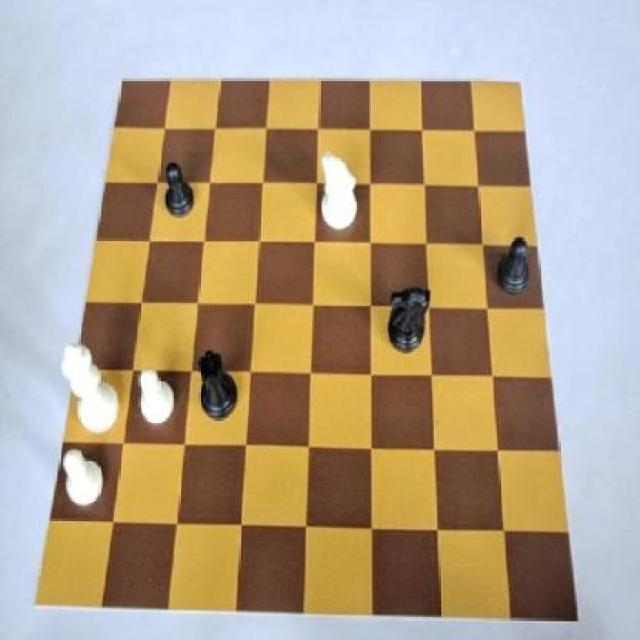black-king: (386, 277, 431, 358)
black-knight: (160, 160, 205, 232), (494, 236, 538, 302)
black-queen: (194, 342, 242, 430)
white-bishop: (60, 338, 122, 441)
white-king: (319, 150, 363, 242)
white-knight: (57, 442, 111, 514), (136, 363, 178, 437)
